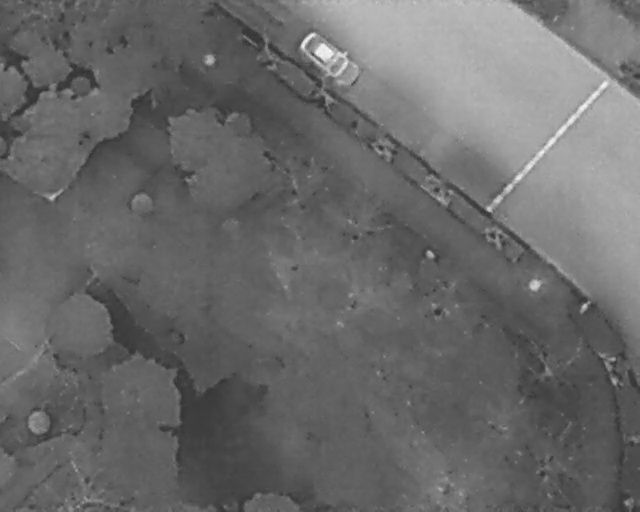Car: (294, 26, 365, 92)
